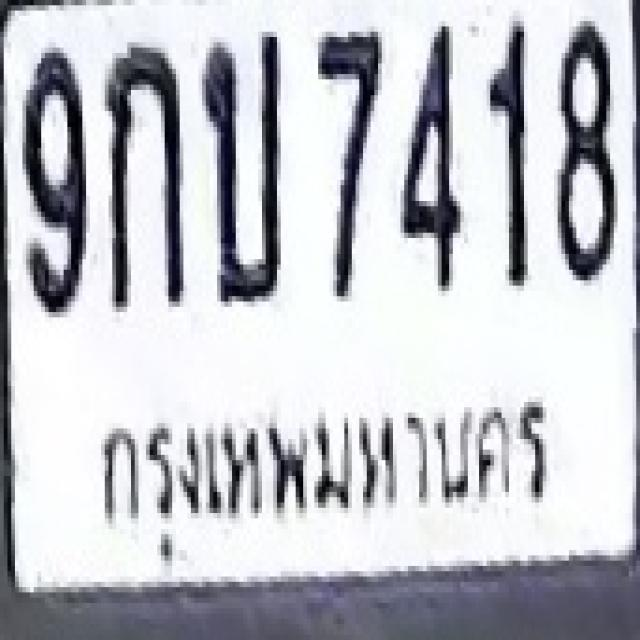1: (484, 18, 530, 288)
4: (399, 21, 462, 291)
7: (314, 26, 382, 302)
8: (554, 18, 614, 283)
9: (21, 45, 88, 315)
A01: (103, 45, 185, 309)
A26: (200, 29, 283, 304)
BKK: (90, 388, 570, 557)
